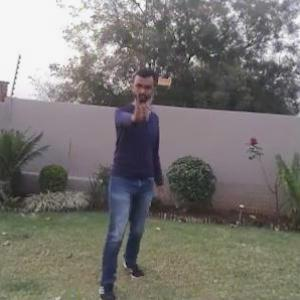takeoff-hand: (126, 94, 154, 126)
